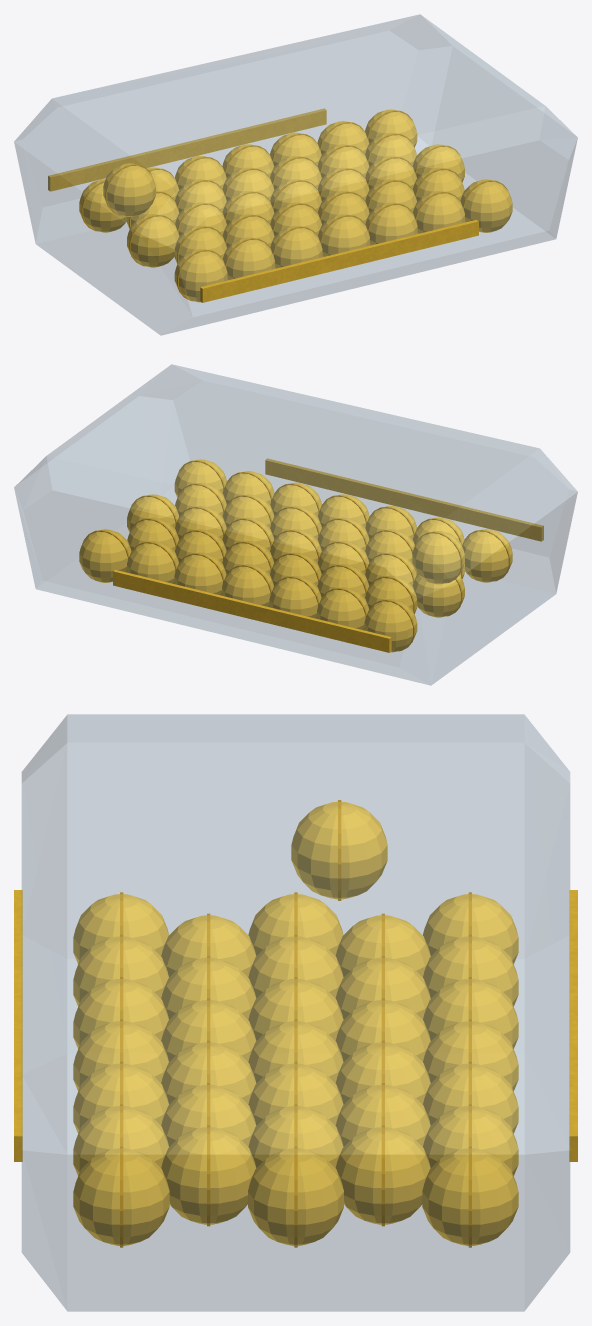
File: hopper_low_pro_v2.glb
The picture shows the model from 3 angles, top to bottom: view 1: azimuth 30°, elevation 25°; view 2: azimuth 150°, elevation 25°; view 3: azimuth 270°, elevation 25°; orthographic projection. The views are drawn at different scales.
Parts seen in each view (by area): view 1: hopper_low_pro_mesh, paintball_33, paintball_01, paintball_32, paintball_02, paintball_22, paintball_17, paintball_07, paintball_27, paintball_12, paintball_00, paintball_04 (+23 smaller); view 2: hopper_low_pro_mesh, paintball_33, paintball_02, paintball_30, paintball_00, paintball_20, paintball_15, paintball_05, paintball_25, paintball_10, paintball_01, paintball_03 (+22 smaller); view 3: hopper_low_pro_mesh, paintball_33, paintball_30, paintball_32, paintball_31, paintball_28, paintball_29, paintball_20, paintball_22, paintball_15, paintball_17, paintball_05 (+23 smaller).
Boxes of the visible parts, x1=… form: hopper_low_pro_mesh: x1=14, y1=14, x2=577, y2=335; paintball_33: x1=103, y1=163, x2=155, y2=216; paintball_01: x1=127, y1=214, x2=179, y2=267; paintball_32: x1=460, y1=179, x2=512, y2=232; paintball_02: x1=174, y1=249, x2=227, y2=302; paintball_22: x1=365, y1=202, x2=417, y2=245; paintball_17: x1=318, y1=214, x2=369, y2=256; paintball_07: x1=223, y1=237, x2=274, y2=280; paintball_27: x1=413, y1=191, x2=464, y2=233; paintball_12: x1=270, y1=225, x2=322, y2=268; paintball_00: x1=79, y1=179, x2=126, y2=232; paintball_04: x1=174, y1=225, x2=226, y2=263; hopper_low_pro_mesh: x1=14, y1=364, x2=577, y2=685; paintball_33: x1=412, y1=531, x2=464, y2=584; paintball_02: x1=462, y1=529, x2=512, y2=582; paintball_30: x1=79, y1=529, x2=131, y2=582; paintball_00: x1=364, y1=599, x2=417, y2=652; paintball_20: x1=174, y1=552, x2=226, y2=595; paintball_15: x1=222, y1=564, x2=273, y2=606; paintball_05: x1=317, y1=587, x2=368, y2=630; paintball_25: x1=127, y1=541, x2=178, y2=583; paintball_10: x1=269, y1=575, x2=321, y2=618; paintball_01: x1=412, y1=574, x2=464, y2=617; paintball_03: x1=365, y1=575, x2=417, y2=613; hopper_low_pro_mesh: x1=14, y1=714, x2=577, y2=1311; paintball_33: x1=291, y1=800, x2=387, y2=900; paintball_30: x1=422, y1=1146, x2=518, y2=1247; paintball_32: x1=73, y1=1146, x2=169, y2=1247; paintball_31: x1=248, y1=1146, x2=343, y2=1247; paintball_28: x1=335, y1=1125, x2=430, y2=1226; paintball_29: x1=161, y1=1125, x2=256, y2=1226; paintball_20: x1=423, y1=1061, x2=518, y2=1133; paintball_22: x1=73, y1=1061, x2=168, y2=1133; paintball_15: x1=423, y1=1019, x2=518, y2=1090; paintball_17: x1=73, y1=1019, x2=168, y2=1090; paintball_05: x1=423, y1=934, x2=518, y2=1006.
Bounding box in the file's own units: 0.162 × 0.05 × 0.0987.
4 materials, 1 textured.
